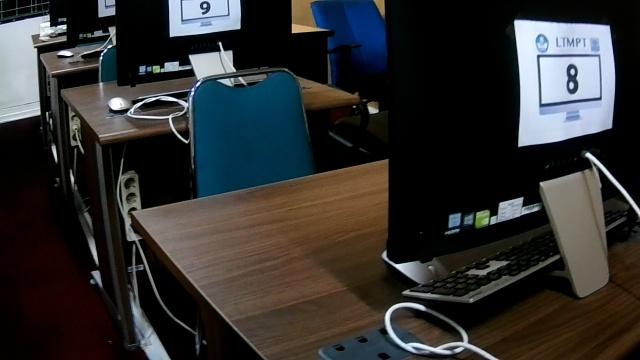AIO PC-Monitor-TV: (383, 0, 639, 301), (114, 0, 292, 92)
Kursi: (308, 0, 384, 94)
Meja: (129, 156, 638, 359), (59, 67, 358, 157)
